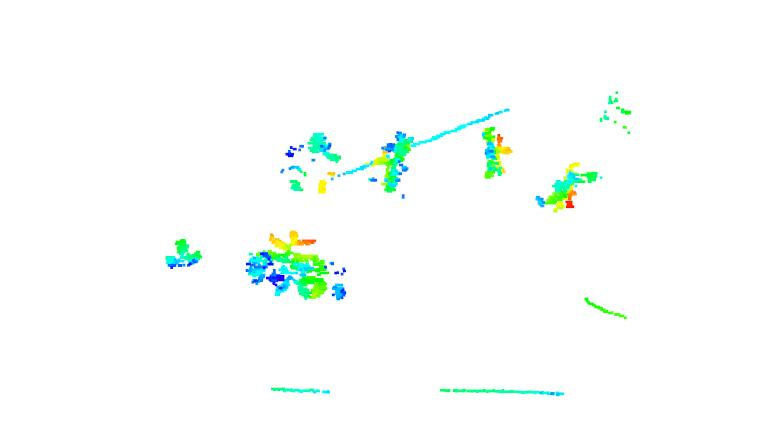chickpea: (248, 230, 317, 309), (271, 128, 344, 202), (531, 156, 602, 215), (297, 253, 368, 311), (367, 132, 414, 197), (474, 126, 528, 180), (162, 234, 209, 276)
